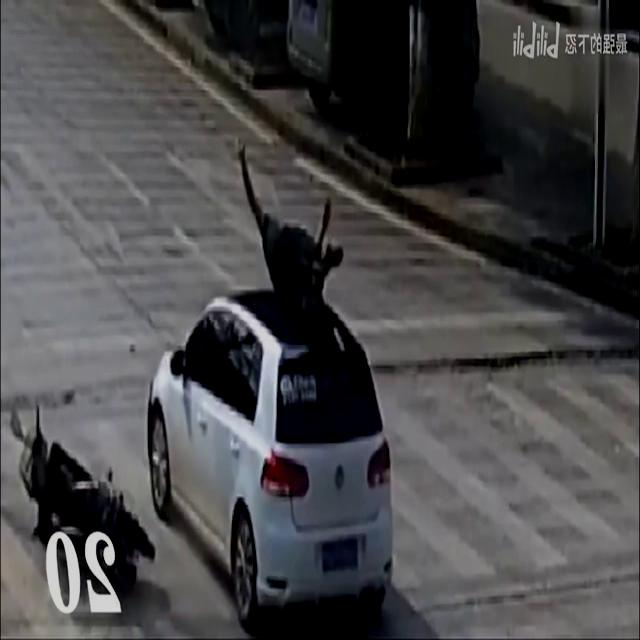accident: (11, 145, 396, 628)
